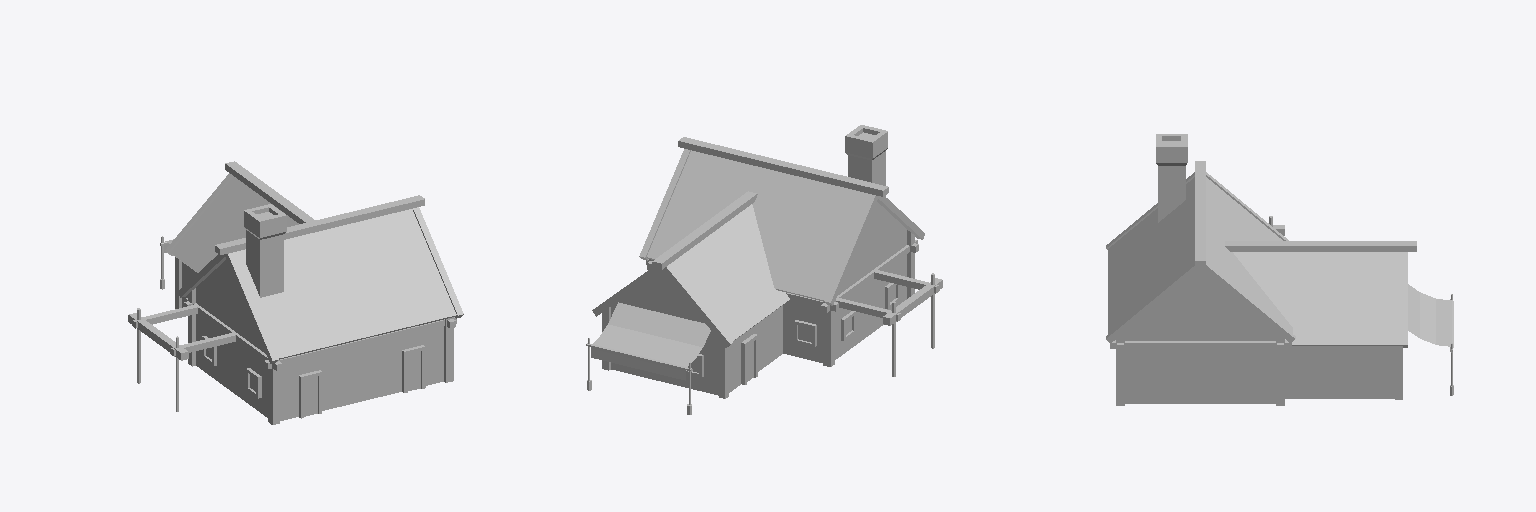
Rendered from House2.obj.
The picture shows the model from 3 angles: view 1: azimuth 30°, elevation 25°; view 2: azimuth 150°, elevation 25°; view 3: azimuth 270°, elevation 25°; orthographic projection.
Size of the model in its own units: 5.41 by 3.82 by 6.43.